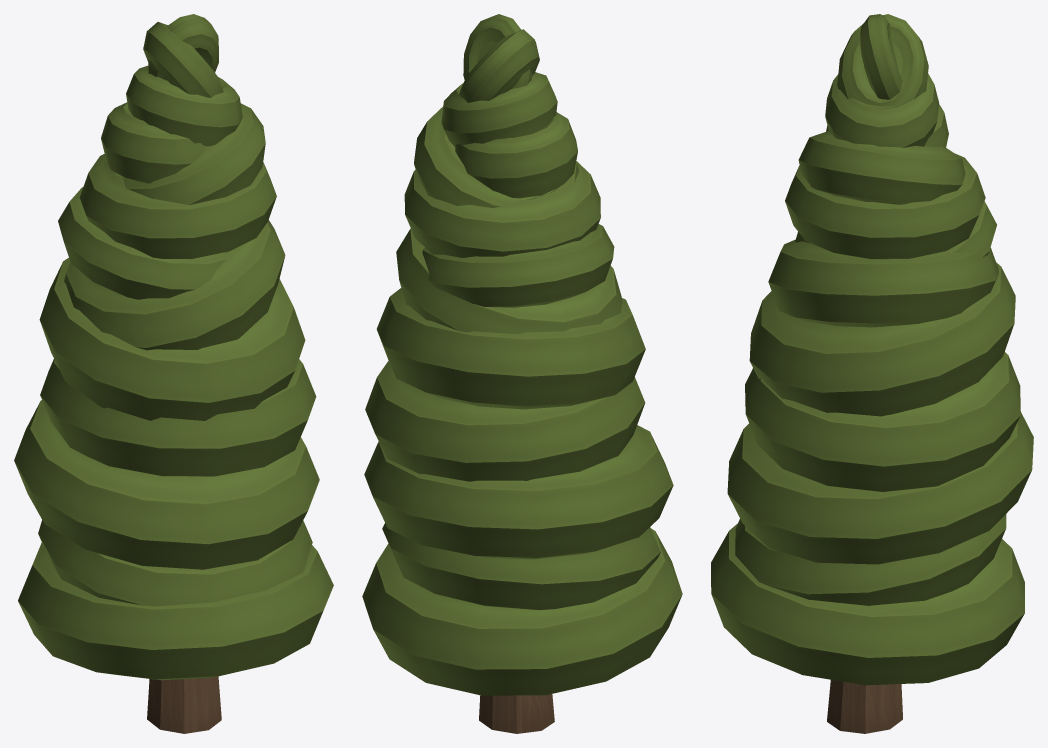
Rendered from Pine.fbx.
3 renders of one model, left to right at view 1: azimuth 30°, elevation 25°; view 2: azimuth 150°, elevation 25°; view 3: azimuth 270°, elevation 25°, orthographic.
Parts seen in each view (by area): view 1: Pine; view 2: Pine; view 3: Pine.
Part boxes in pixels (x1,y1,x2,y2): Pine: [14, 14, 333, 733]; Pine: [362, 14, 682, 733]; Pine: [711, 14, 1033, 733].
Bounding box in the file's own units: 6.2 × 14.99 × 6.2.
Materials: 1 (1 with a texture image).
